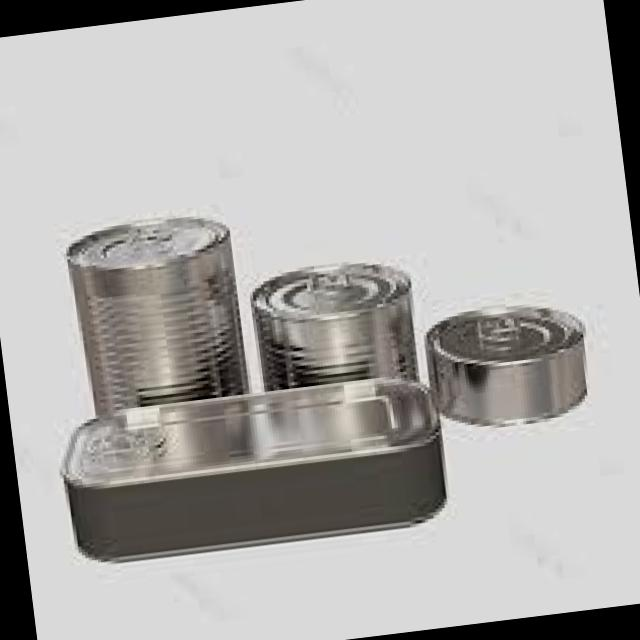kim_loai: (61, 379, 444, 562), (66, 217, 246, 417), (250, 263, 411, 391), (424, 307, 587, 425)
